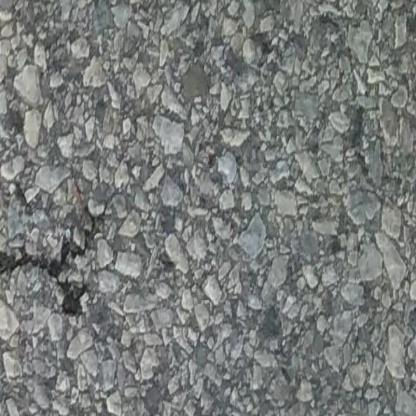Cracks: (0, 193, 122, 323)
